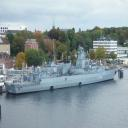Fragata: (4, 47, 122, 97)
